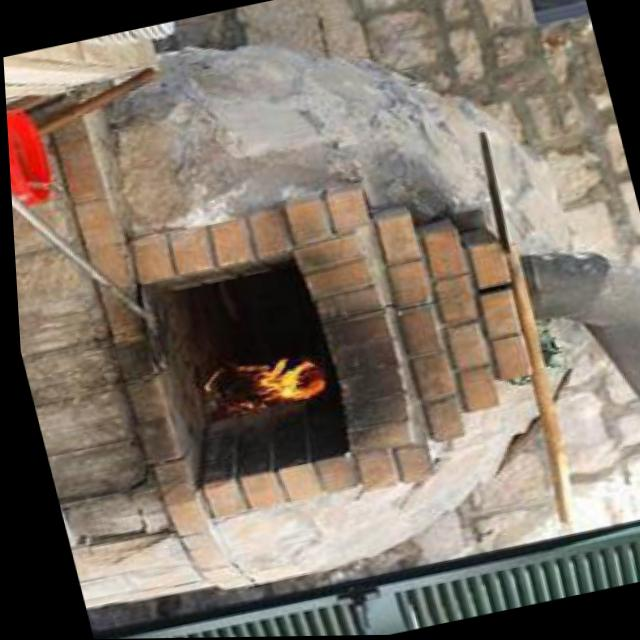Fire: (213, 346, 333, 416)
